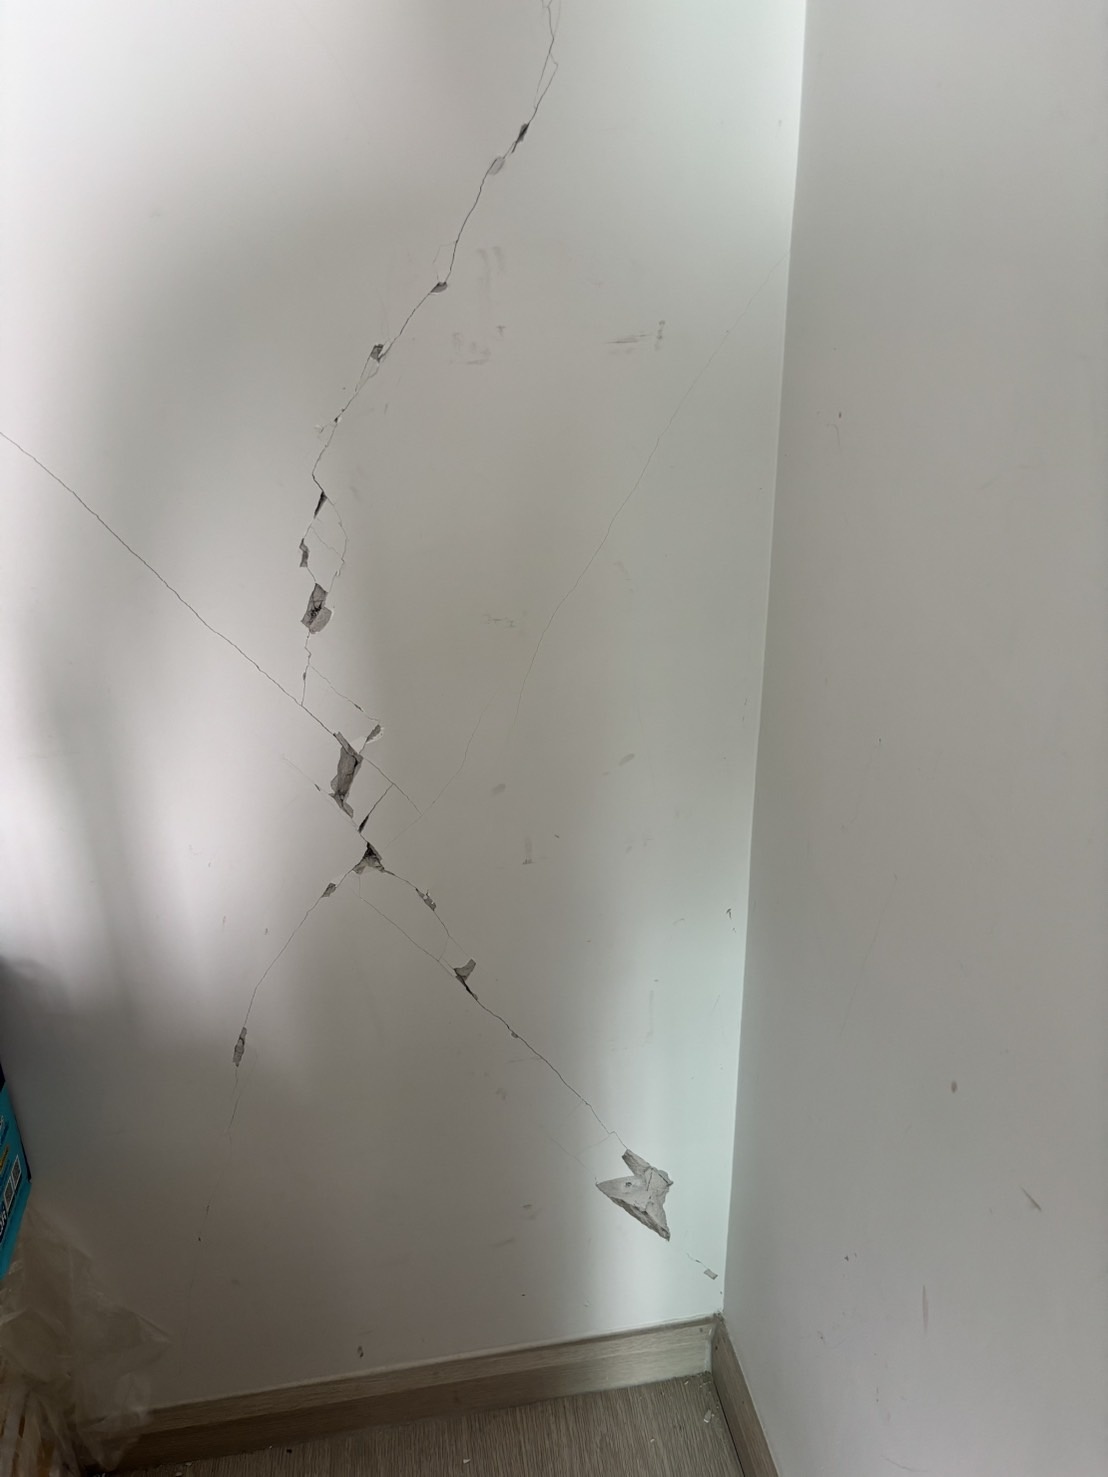Medium: (136, 37, 626, 1129)
